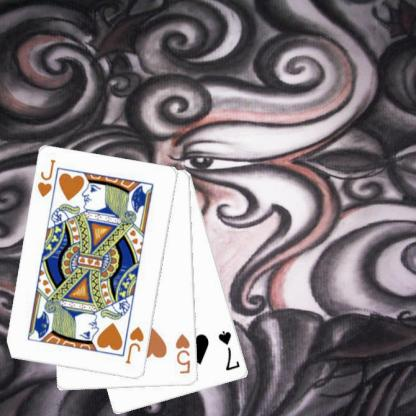5H: (173, 332, 192, 376)
7S: (216, 328, 242, 372)
JH: (123, 324, 146, 366), (35, 157, 57, 199)
